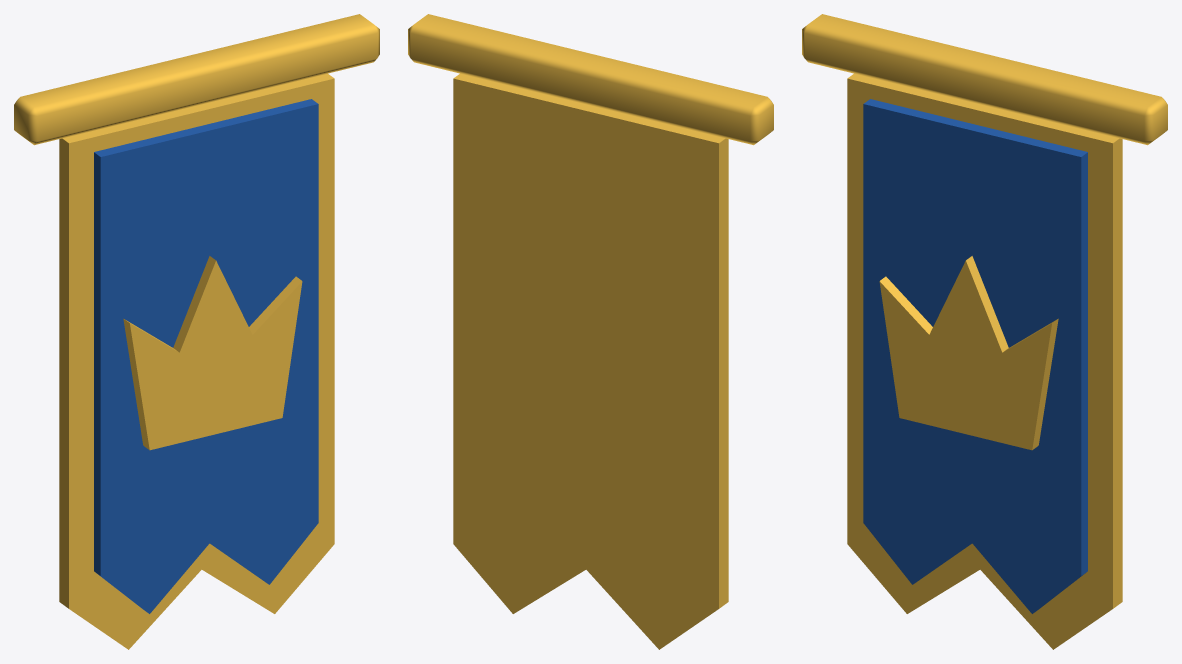
File: capital-v2-banner.glb
3 views of the same model, side by side, from view 1: azimuth 30°, elevation 25°; view 2: azimuth 150°, elevation 25°; view 3: azimuth 330°, elevation 25° (orthographic).
Parts seen in each view (by area): view 1: module_banner__banner_blue_cloth, module_banner__banner_gold_hem, module_banner__crown_emblem, module_banner__banner_crossbar; view 2: module_banner__banner_gold_hem, module_banner__banner_crossbar; view 3: module_banner__banner_blue_cloth, module_banner__banner_gold_hem, module_banner__crown_emblem, module_banner__banner_crossbar.
Part boxes in pixels (x1,y1,x2,y2): module_banner__banner_blue_cloth: (94,99,318,613); module_banner__banner_gold_hem: (59,73,334,649); module_banner__crown_emblem: (123,256,302,450); module_banner__banner_crossbar: (14,14,379,145); module_banner__banner_gold_hem: (453,73,728,649); module_banner__banner_crossbar: (408,14,773,145); module_banner__banner_blue_cloth: (863,99,1087,613); module_banner__banner_gold_hem: (847,73,1122,649); module_banner__crown_emblem: (879,256,1058,450); module_banner__banner_crossbar: (802,14,1167,145).
Size of the model in its own units: 0.053 by 0.0818 by 0.00775.
